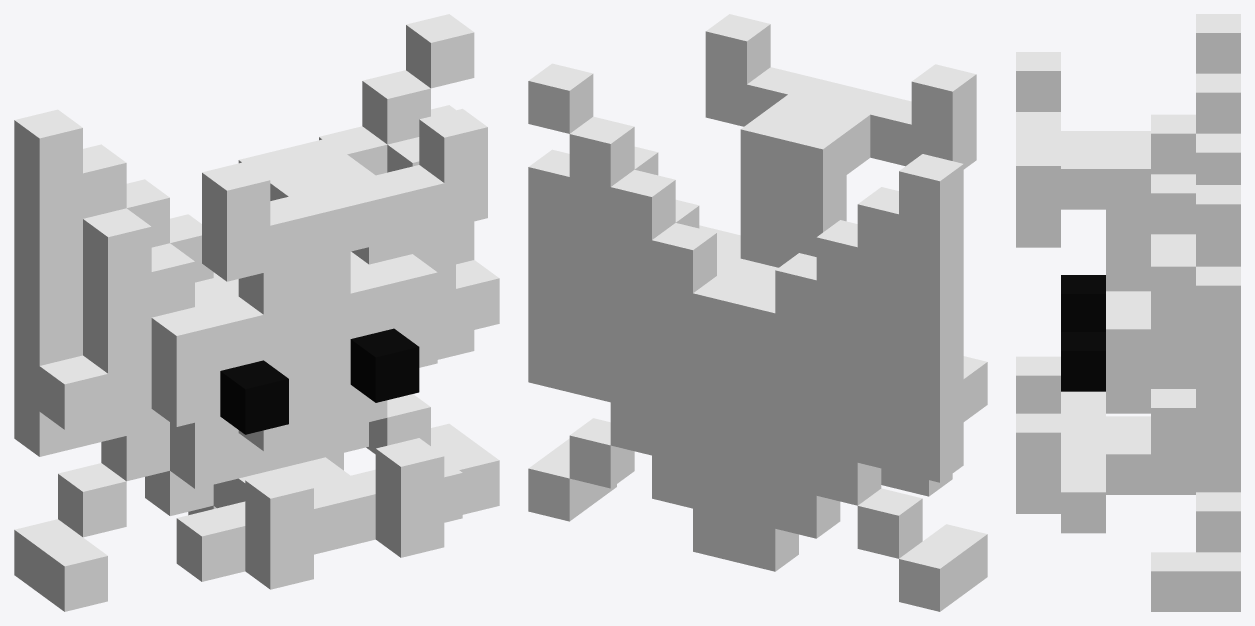
Rendered from alien7.obj.
3 views of the same model, side by side, from view 1: azimuth 30°, elevation 25°; view 2: azimuth 150°, elevation 25°; view 3: azimuth 270°, elevation 25° (orthographic). The views are drawn at different scales.
Size of the model in its own units: 1 by 1 by 0.5.
Materials: 1 (1 with a texture image).
